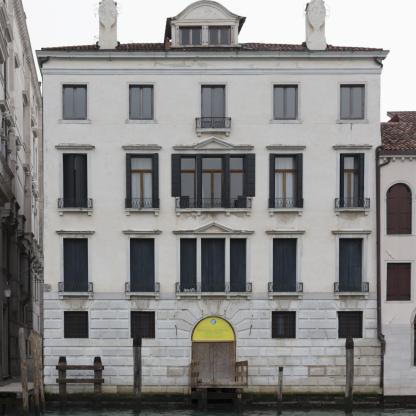Building Outline: (35, 0, 390, 408)
Cornice: (172, 221, 255, 235), (172, 137, 255, 151), (179, 5, 234, 20), (54, 143, 96, 150), (121, 143, 162, 150), (332, 144, 373, 150), (265, 144, 306, 150), (121, 230, 163, 234), (54, 230, 96, 234), (331, 230, 373, 234), (265, 230, 306, 234)
Door: (191, 341, 236, 382)
Facade: (35, 0, 391, 408)
Floor: (41, 216, 383, 300), (41, 135, 383, 215), (41, 58, 383, 135)
Floor Slab: (41, 51, 383, 58), (41, 209, 383, 216), (41, 128, 383, 135), (41, 293, 383, 300)
Ground Floor: (41, 299, 383, 402)
Molding: (40, 68, 383, 74)
Roof: (41, 43, 383, 52)
Sill: (175, 208, 252, 216), (176, 292, 253, 300), (334, 207, 371, 216), (196, 128, 231, 137), (268, 208, 305, 216), (58, 208, 94, 216), (125, 208, 160, 216), (334, 292, 369, 300), (268, 292, 303, 300), (125, 292, 161, 299), (58, 292, 94, 299), (335, 120, 369, 123), (58, 120, 92, 123), (269, 120, 302, 123), (125, 120, 158, 123)
Top Floor: (173, 19, 238, 58)
Window: (64, 238, 88, 292), (339, 238, 363, 292), (273, 238, 297, 292), (201, 238, 225, 292), (131, 238, 155, 292), (64, 154, 88, 208), (340, 153, 364, 207), (274, 154, 298, 208), (202, 154, 226, 208), (130, 154, 154, 208), (191, 316, 236, 340), (201, 84, 225, 128), (230, 238, 247, 293), (230, 153, 247, 208), (180, 238, 197, 292), (179, 154, 196, 208), (273, 84, 298, 120), (340, 84, 365, 119), (63, 84, 87, 120), (129, 84, 153, 120), (338, 311, 363, 339), (272, 311, 297, 339), (130, 311, 155, 339), (64, 311, 89, 339), (208, 26, 231, 45), (179, 26, 202, 45)
